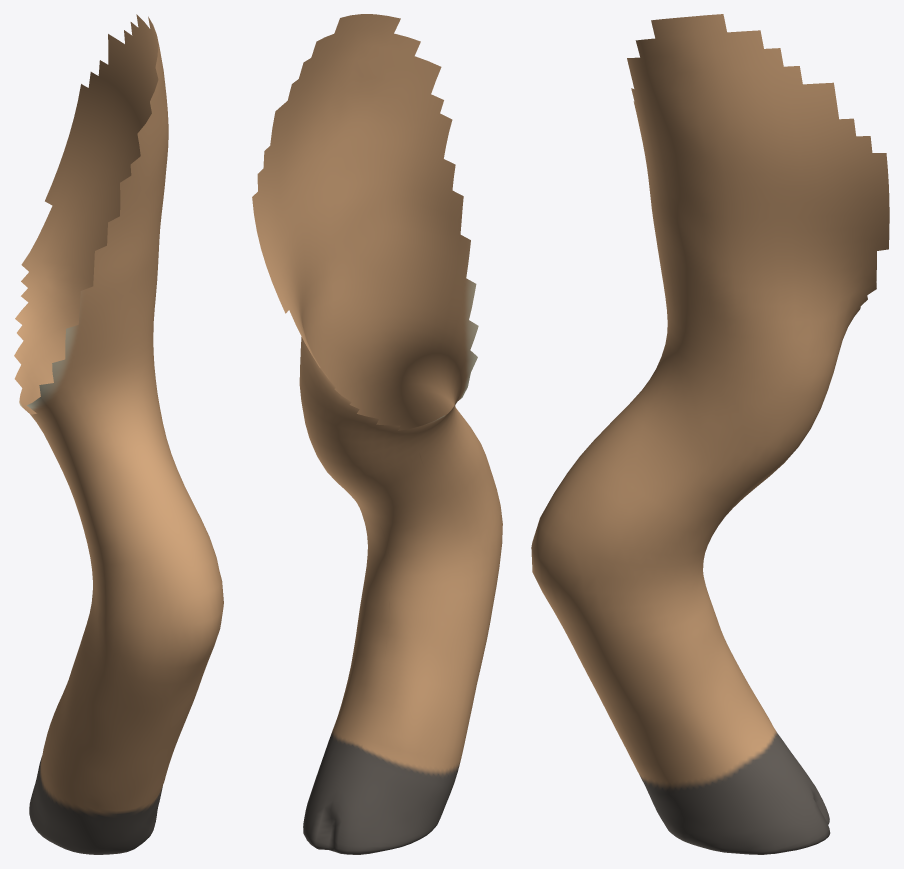
The model's file is Gompers PTI.obj.
The picture shows the model from 3 angles, left to right: view 1: azimuth 30°, elevation 25°; view 2: azimuth 150°, elevation 25°; view 3: azimuth 270°, elevation 25°; orthographic projection. The views are drawn at different scales.
Visible parts, largest first — view 1: Pierna_trasera_Izq; view 2: Pierna_trasera_Izq; view 3: Pierna_trasera_Izq.
Boxes of the visible parts, left/top/right/bottom form: Pierna_trasera_Izq: left=14, top=14, right=223, bottom=854; Pierna_trasera_Izq: left=252, top=14, right=502, bottom=854; Pierna_trasera_Izq: left=531, top=14, right=889, bottom=854.
Size of the model in its own units: 0.1963 by 1.04 by 0.3995.
